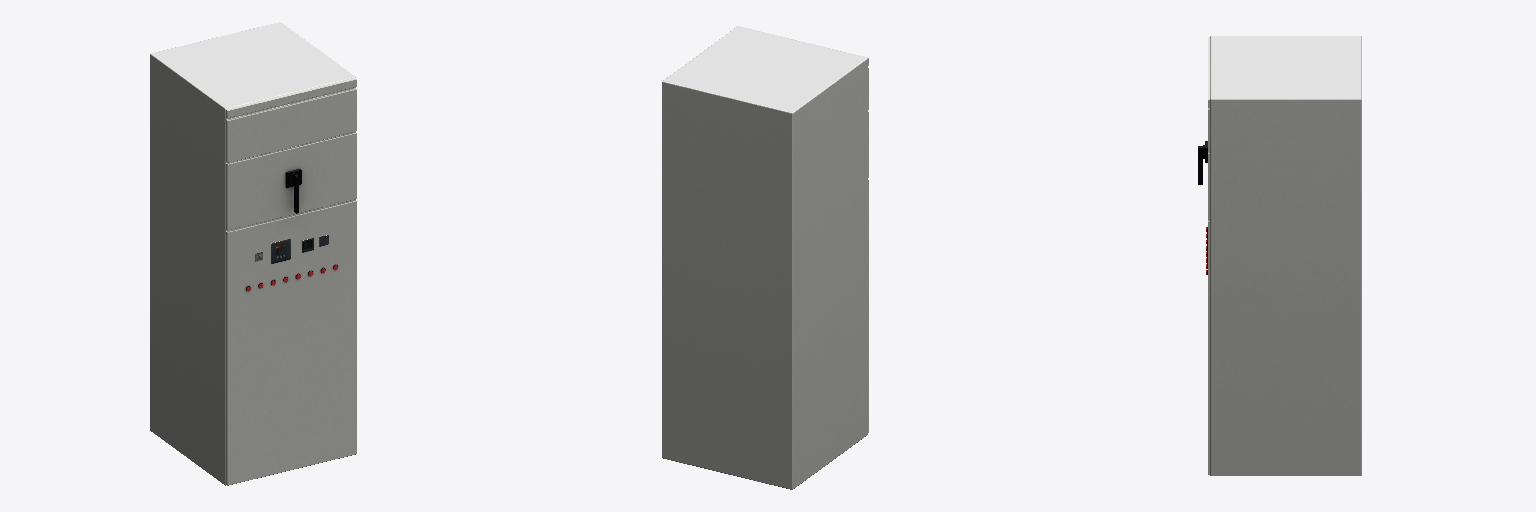
3 views of the same model, side by side, from view 1: azimuth 30°, elevation 25°; view 2: azimuth 150°, elevation 25°; view 3: azimuth 270°, elevation 25° (orthographic).
Visible parts, largest first — view 1: ChamferBox04; view 2: ChamferBox04; view 3: ChamferBox04.
Boxes of the visible parts, <box> form: ChamferBox04: <box>150,22,356,485</box>; ChamferBox04: <box>662,26,868,489</box>; ChamferBox04: <box>1198,36,1361,475</box>.
Bounding box in the file's own units: 80 × 220 × 86.37.
1 materials, 1 textured.